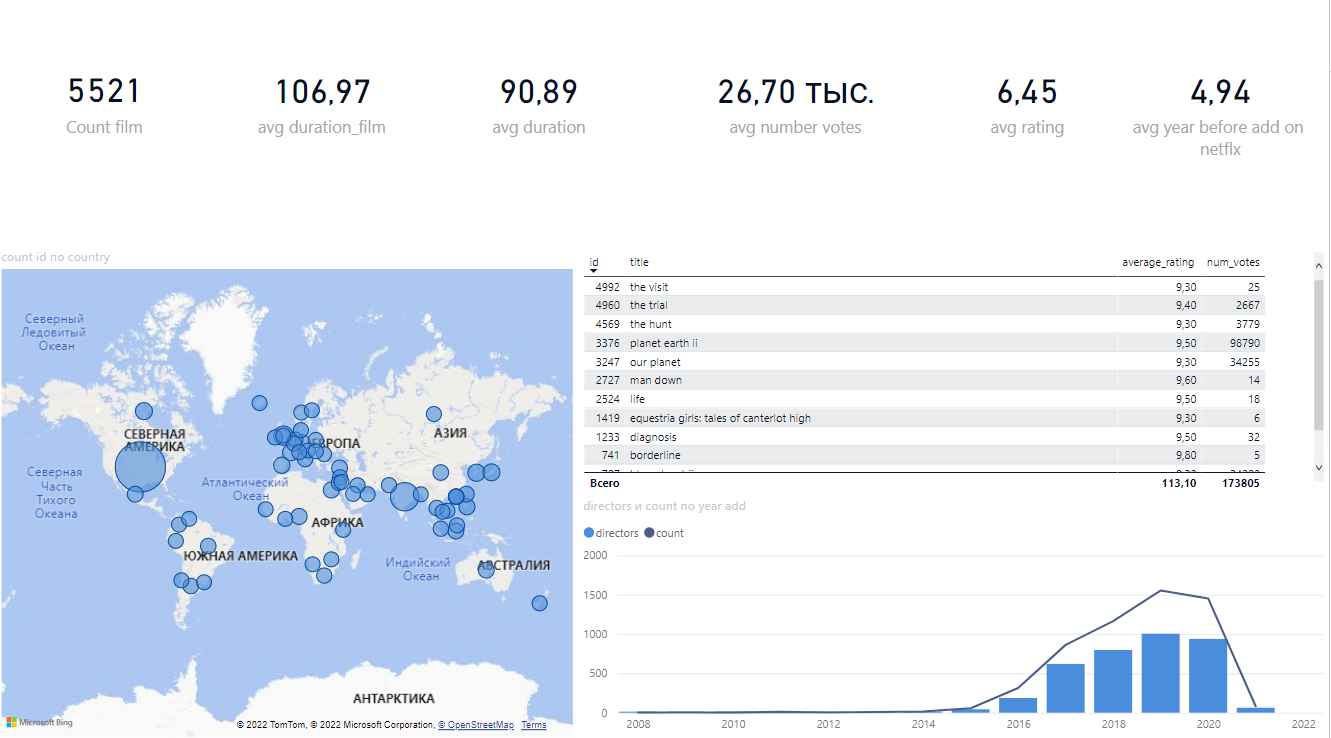

Layout of this report page (visuals, bound fields, positions):
{"tool":"powerbi","page":{"name":"Страница 1","canvas":[1280,720],"ordinal":0},"visuals":[{"type":"card","fields":{"Values":["Count(netflix_data.id)"]},"box":[0,0,208,205.3],"z":0},{"type":"card","fields":{"Values":["netflix_data.!avg_duration_file"]},"box":[208.6,0,208.6,206],"z":1},{"type":"card","fields":{"Values":["netflix_data.!avg_duration"]},"box":[417.2,2.6,208.6,203.5],"z":2},{"type":"card","fields":{"Values":["netflix_data.!avg_num_votes"]},"box":[625.8,0,283.3,206],"z":3},{"type":"card","fields":{"Values":["netflix_data.!avg_rating"]},"box":[909.1,2.6,208.6,203.5],"z":4},{"type":"card","fields":{"Values":["netflix_data.!avg_year_before_add"]},"box":[1071.4,2.6,208.6,203.5],"z":5},{"type":"map","fields":{"Category":["netflix_data.country"],"Size":["CountNonNull(netflix_data.id)"]},"box":[0,244.7,558.9,476.5],"z":6},{"type":"lineClusteredColumnComboChart","fields":{"Category":["netflix_data.__date_add_year"],"Y2":["CountNonNull(netflix_data.id)"],"Y":["netflix_data.!distinct_drectors"]},"box":[558.9,484.2,703.1,236.9],"z":7},{"type":"tableEx","fields":{"Values":["netflix_data.id","netflix_data.title","Sum(imdb_data.average_rating)","Sum(imdb_data.num_votes)"]},"box":[558.9,270.4,721.1,213.8],"z":8}]}

Visuals, with their boxes on the page's 1280x720 design canvas (x1, y1, x2, y2). These are canvas units, not pixel positions in the 1331x738 screenshot, which may show the page scaled, cropped or inside an application window:
card - Count(netflix_data.id): {"left": 0, "top": 0, "right": 208, "bottom": 205}
card - netflix_data.!avg_duration_file: {"left": 209, "top": 0, "right": 417, "bottom": 206}
card - netflix_data.!avg_duration: {"left": 417, "top": 3, "right": 626, "bottom": 206}
card - netflix_data.!avg_num_votes: {"left": 626, "top": 0, "right": 909, "bottom": 206}
card - netflix_data.!avg_rating: {"left": 909, "top": 3, "right": 1118, "bottom": 206}
card - netflix_data.!avg_year_before_add: {"left": 1071, "top": 3, "right": 1280, "bottom": 206}
map - netflix_data.country x CountNonNull(netflix_data.id): {"left": 0, "top": 245, "right": 559, "bottom": 721}
lineClusteredColumnComboChart - netflix_data.__date_add_year x CountNonNull(netflix_data.id): {"left": 559, "top": 484, "right": 1262, "bottom": 721}
tableEx - netflix_data.id x netflix_data.title: {"left": 559, "top": 270, "right": 1280, "bottom": 484}
